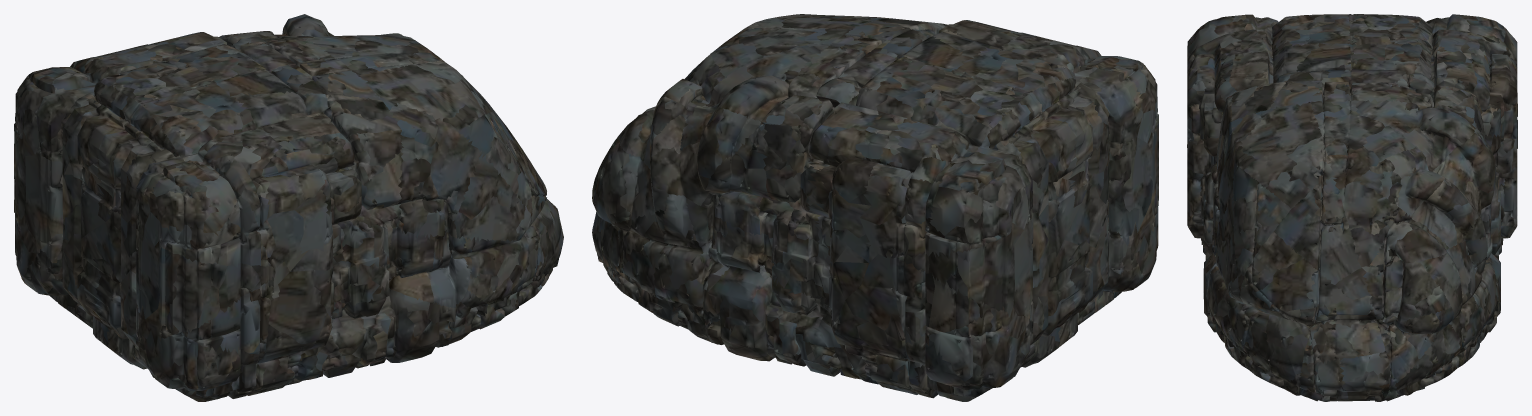
The model's file is arc-palisade-lean.glb.
3 views of the same model, side by side, from view 1: azimuth 30°, elevation 25°; view 2: azimuth 150°, elevation 25°; view 3: azimuth 270°, elevation 25° (orthographic). The views are drawn at different scales.
Parts seen in each view (by area): view 1: chassis; view 2: chassis; view 3: chassis.
Part boxes in pixels (x1,y1,x2,y2): chassis: [14, 14, 563, 401]; chassis: [592, 14, 1158, 401]; chassis: [1187, 14, 1517, 401].
Size of the model in its own units: 0.9898 by 0.537 by 0.6948.
Materials: 1 (1 with a texture image).
